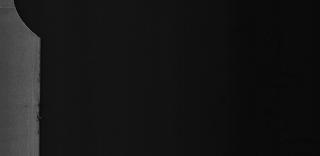welding line: (0, 4, 22, 12)
